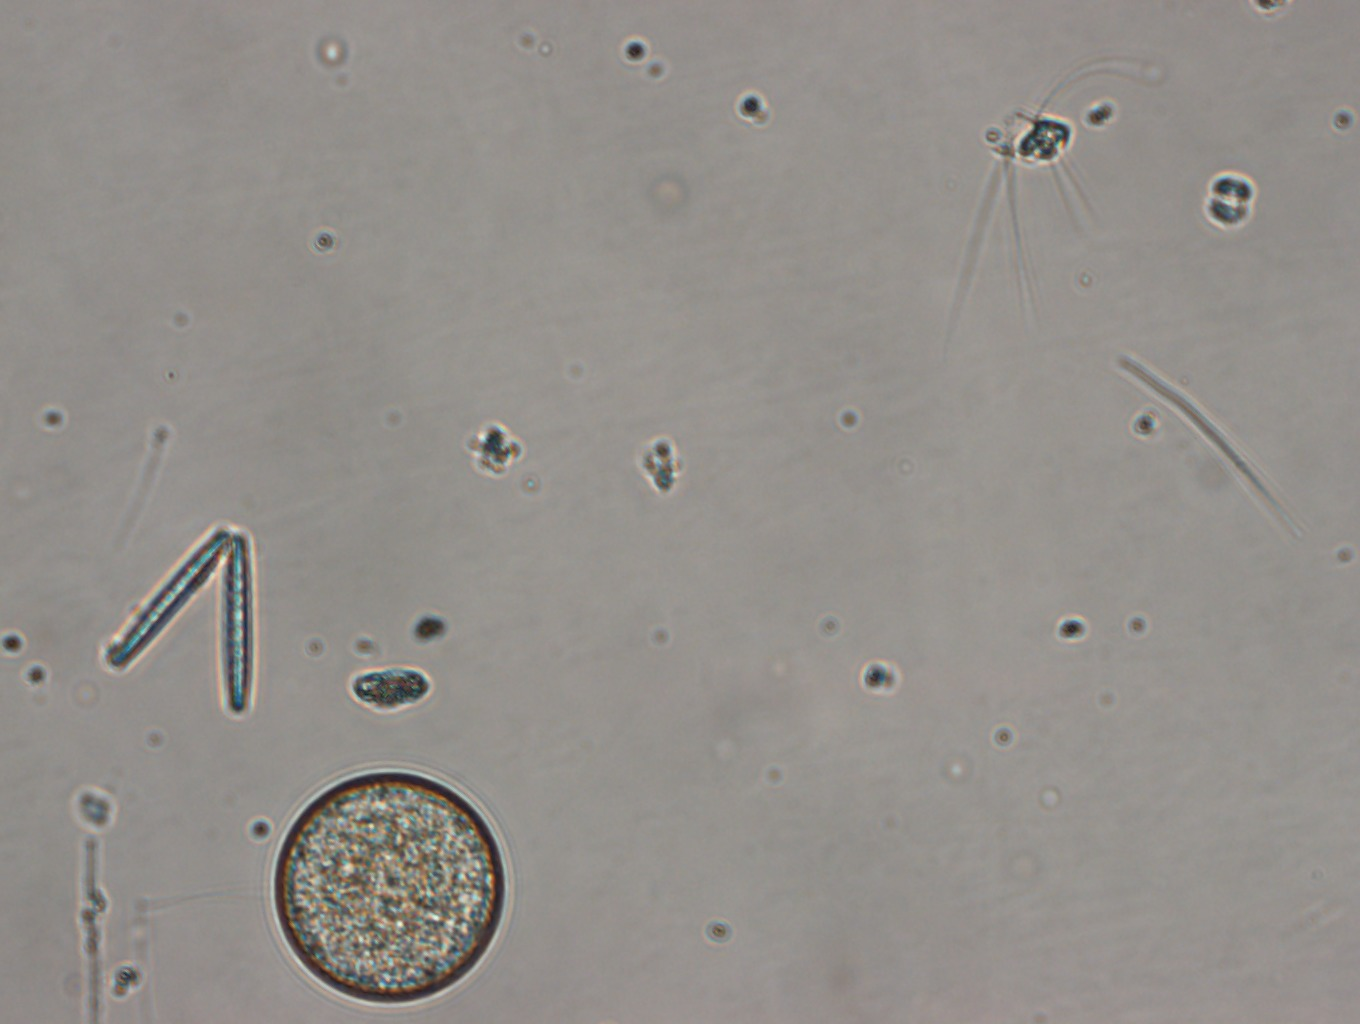coscinodiscus: (268, 770, 509, 1009)
thalassionema nitzschioides: (112, 514, 262, 710)
